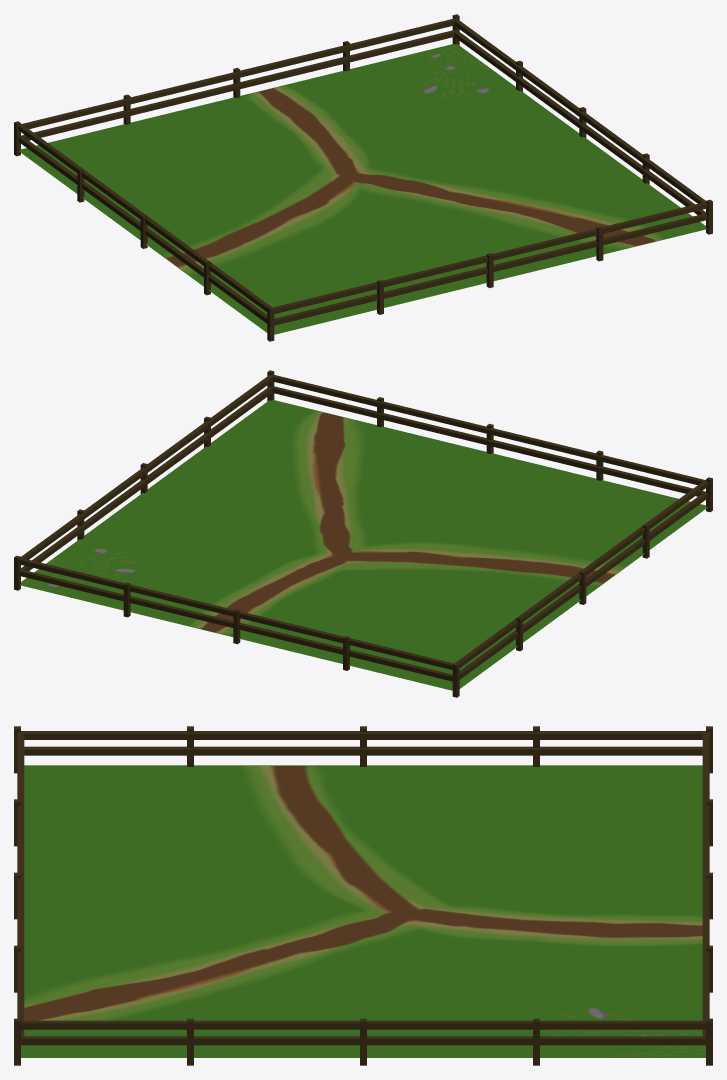
Rendered from ground.glb.
The picture shows the model from 3 angles, top to bottom: view 1: azimuth 30°, elevation 25°; view 2: azimuth 150°, elevation 25°; view 3: azimuth 270°, elevation 25°; orthographic projection. The views are drawn at different scales.
Parts seen in each view (by area): view 1: ground, fence; view 2: ground, fence; view 3: ground, fence.
Boxes of the visible parts, x1,y1,x2,y2 form: ground: (19, 44, 706, 334); fence: (14, 14, 712, 341); ground: (20, 400, 707, 690); fence: (14, 370, 712, 697); ground: (21, 765, 705, 1057); fence: (14, 726, 712, 1065).
Size of the model in its own units: 101 by 7 by 101.
Materials: 2 (2 with a texture image).
